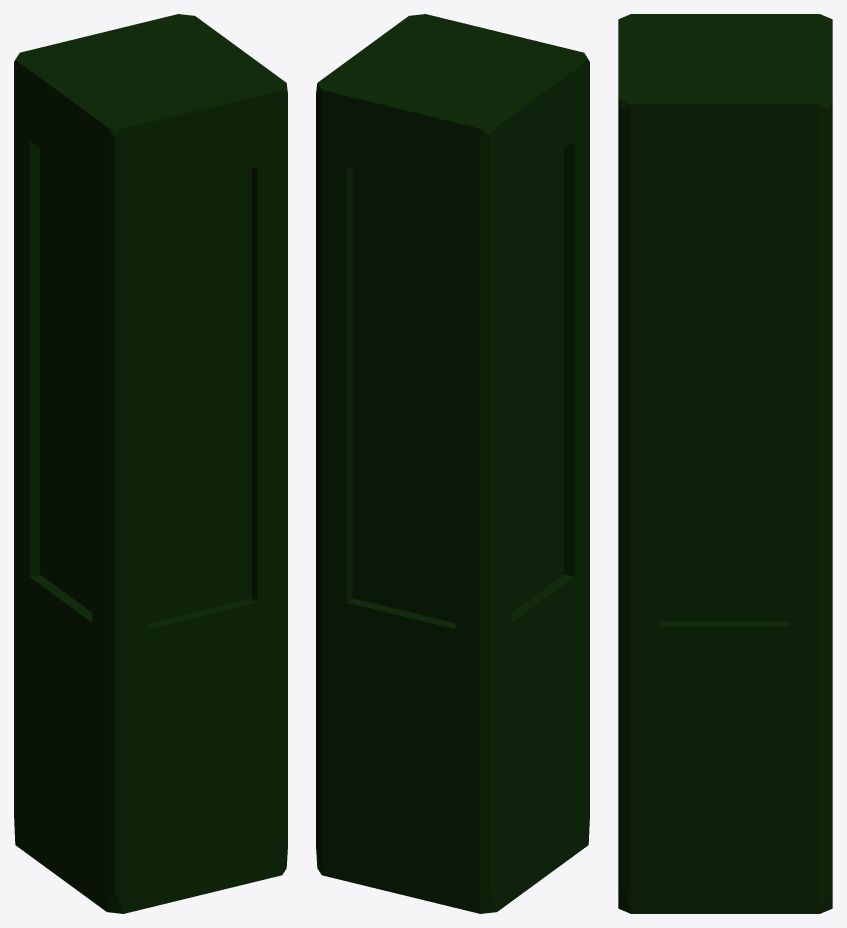
The model's file is tower1.fbx.
The picture shows the model from 3 angles, left to right: view 1: azimuth 30°, elevation 25°; view 2: azimuth 150°, elevation 25°; view 3: azimuth 270°, elevation 25°; orthographic projection. The views are drawn at different scales.
Visible parts, largest first — view 1: tower1; view 2: tower1; view 3: tower1.
Part boxes in pixels (left/top/right/bottom): tower1: left=14, top=14, right=287, bottom=913; tower1: left=316, top=14, right=589, bottom=913; tower1: left=618, top=14, right=832, bottom=913.
Size of the model in its own units: 1.54 by 6.43 by 1.54.
